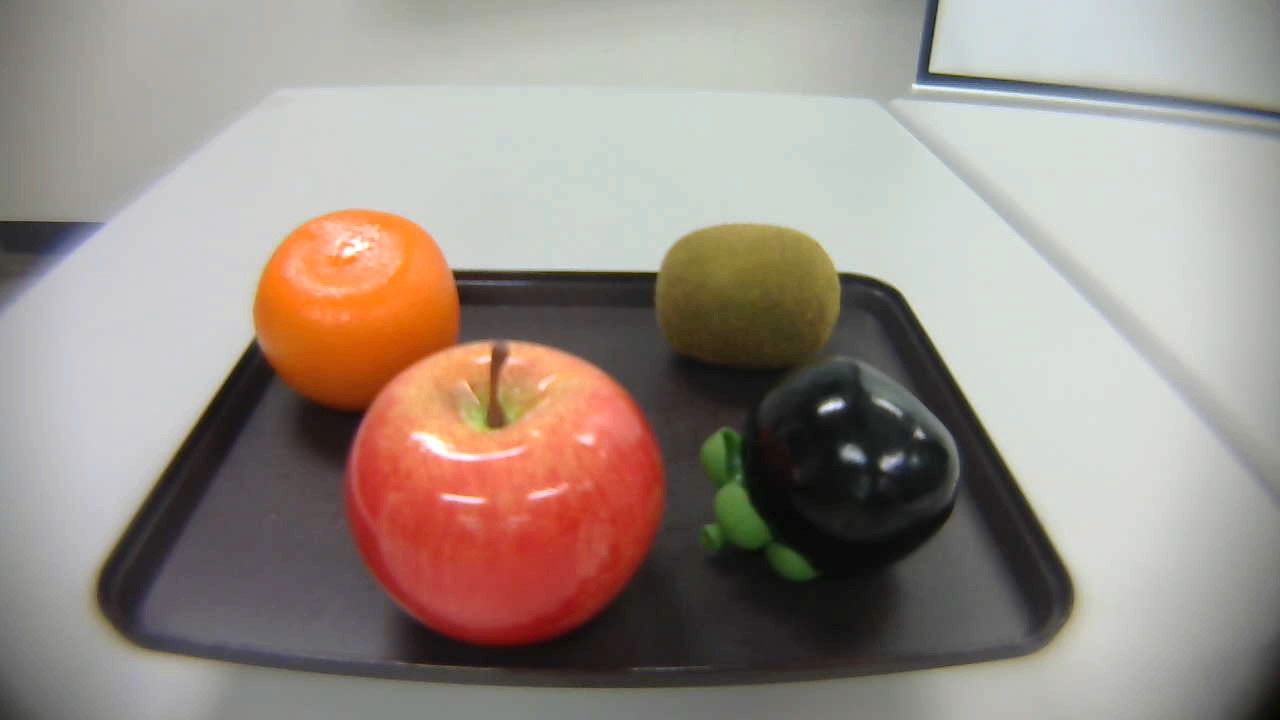kiwi fruit: (658, 223, 845, 386)
mangosteen: (697, 352, 961, 609)
orange: (240, 196, 478, 429)
red apple: (345, 336, 667, 651)
